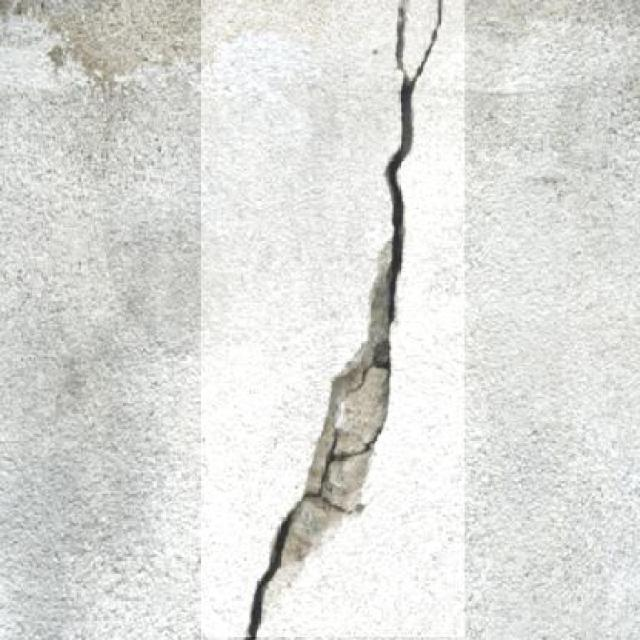Crack: (234, 0, 481, 635)
